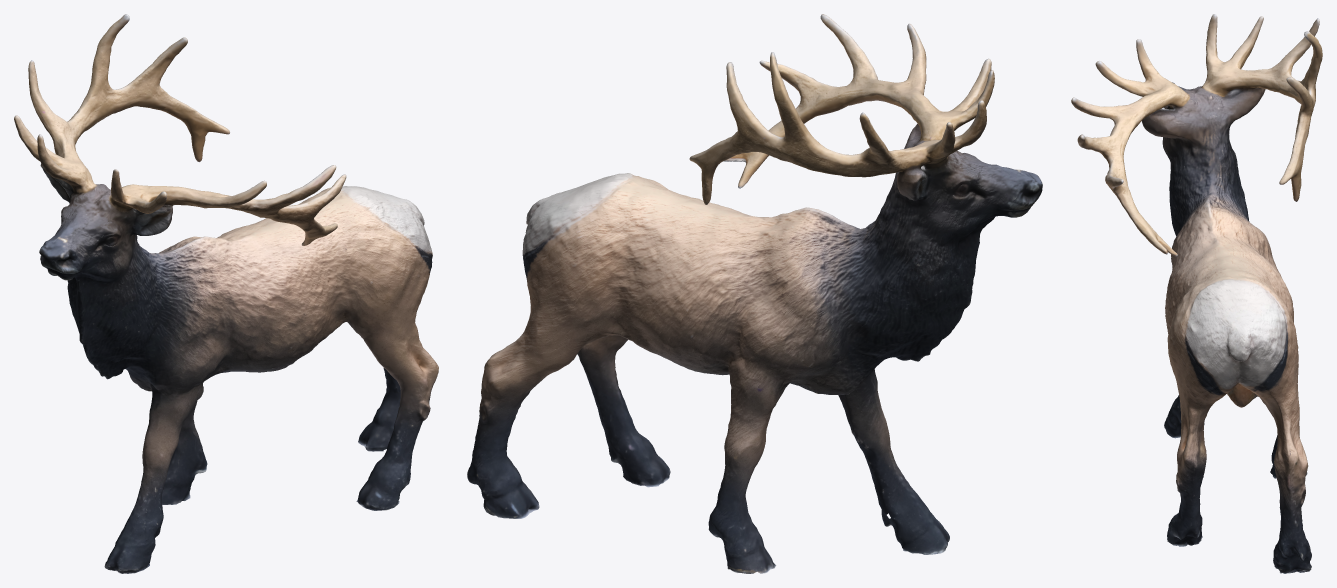
File: Elk_Free.glb
3 renders of one model, left to right at view 1: azimuth 30°, elevation 25°; view 2: azimuth 150°, elevation 25°; view 3: azimuth 270°, elevation 25°, orthographic. The views are drawn at different scales.
Parts seen in each view (by area): view 1: Moose; view 2: Moose; view 3: Moose.
Boxes of the visible parts, left/top/right/bottom form: Moose: left=14, top=14, right=438, bottom=573; Moose: left=467, top=14, right=1042, bottom=573; Moose: left=1071, top=14, right=1322, bottom=573.
Size of the model in its own units: 1.22 by 1.26 by 0.669.
1 material, 1 textured.
